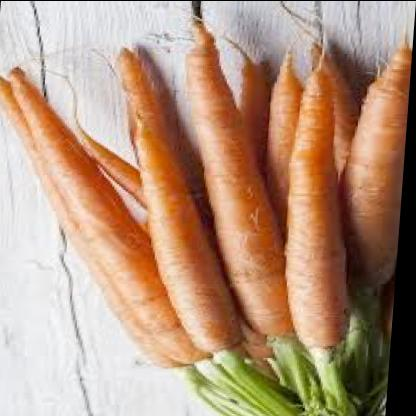Organic: (0, 0, 409, 410)
